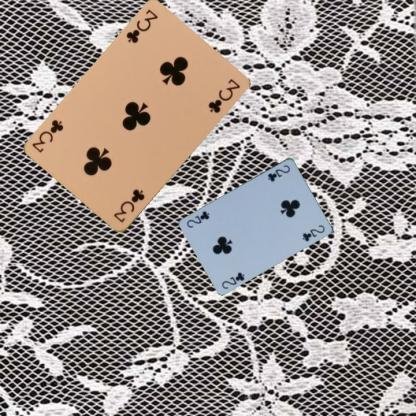2c: (219, 269, 246, 290), (265, 161, 291, 182)
3c: (124, 7, 160, 45), (111, 187, 146, 224)
